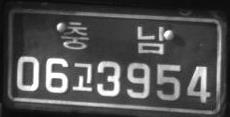0: (15, 55, 40, 92)
3: (97, 60, 121, 96)
4: (186, 65, 211, 103)
5: (156, 63, 181, 100)
6: (44, 56, 69, 93)
9: (125, 61, 151, 99)
고: (72, 62, 93, 92)
충남_D: (60, 20, 166, 54)
